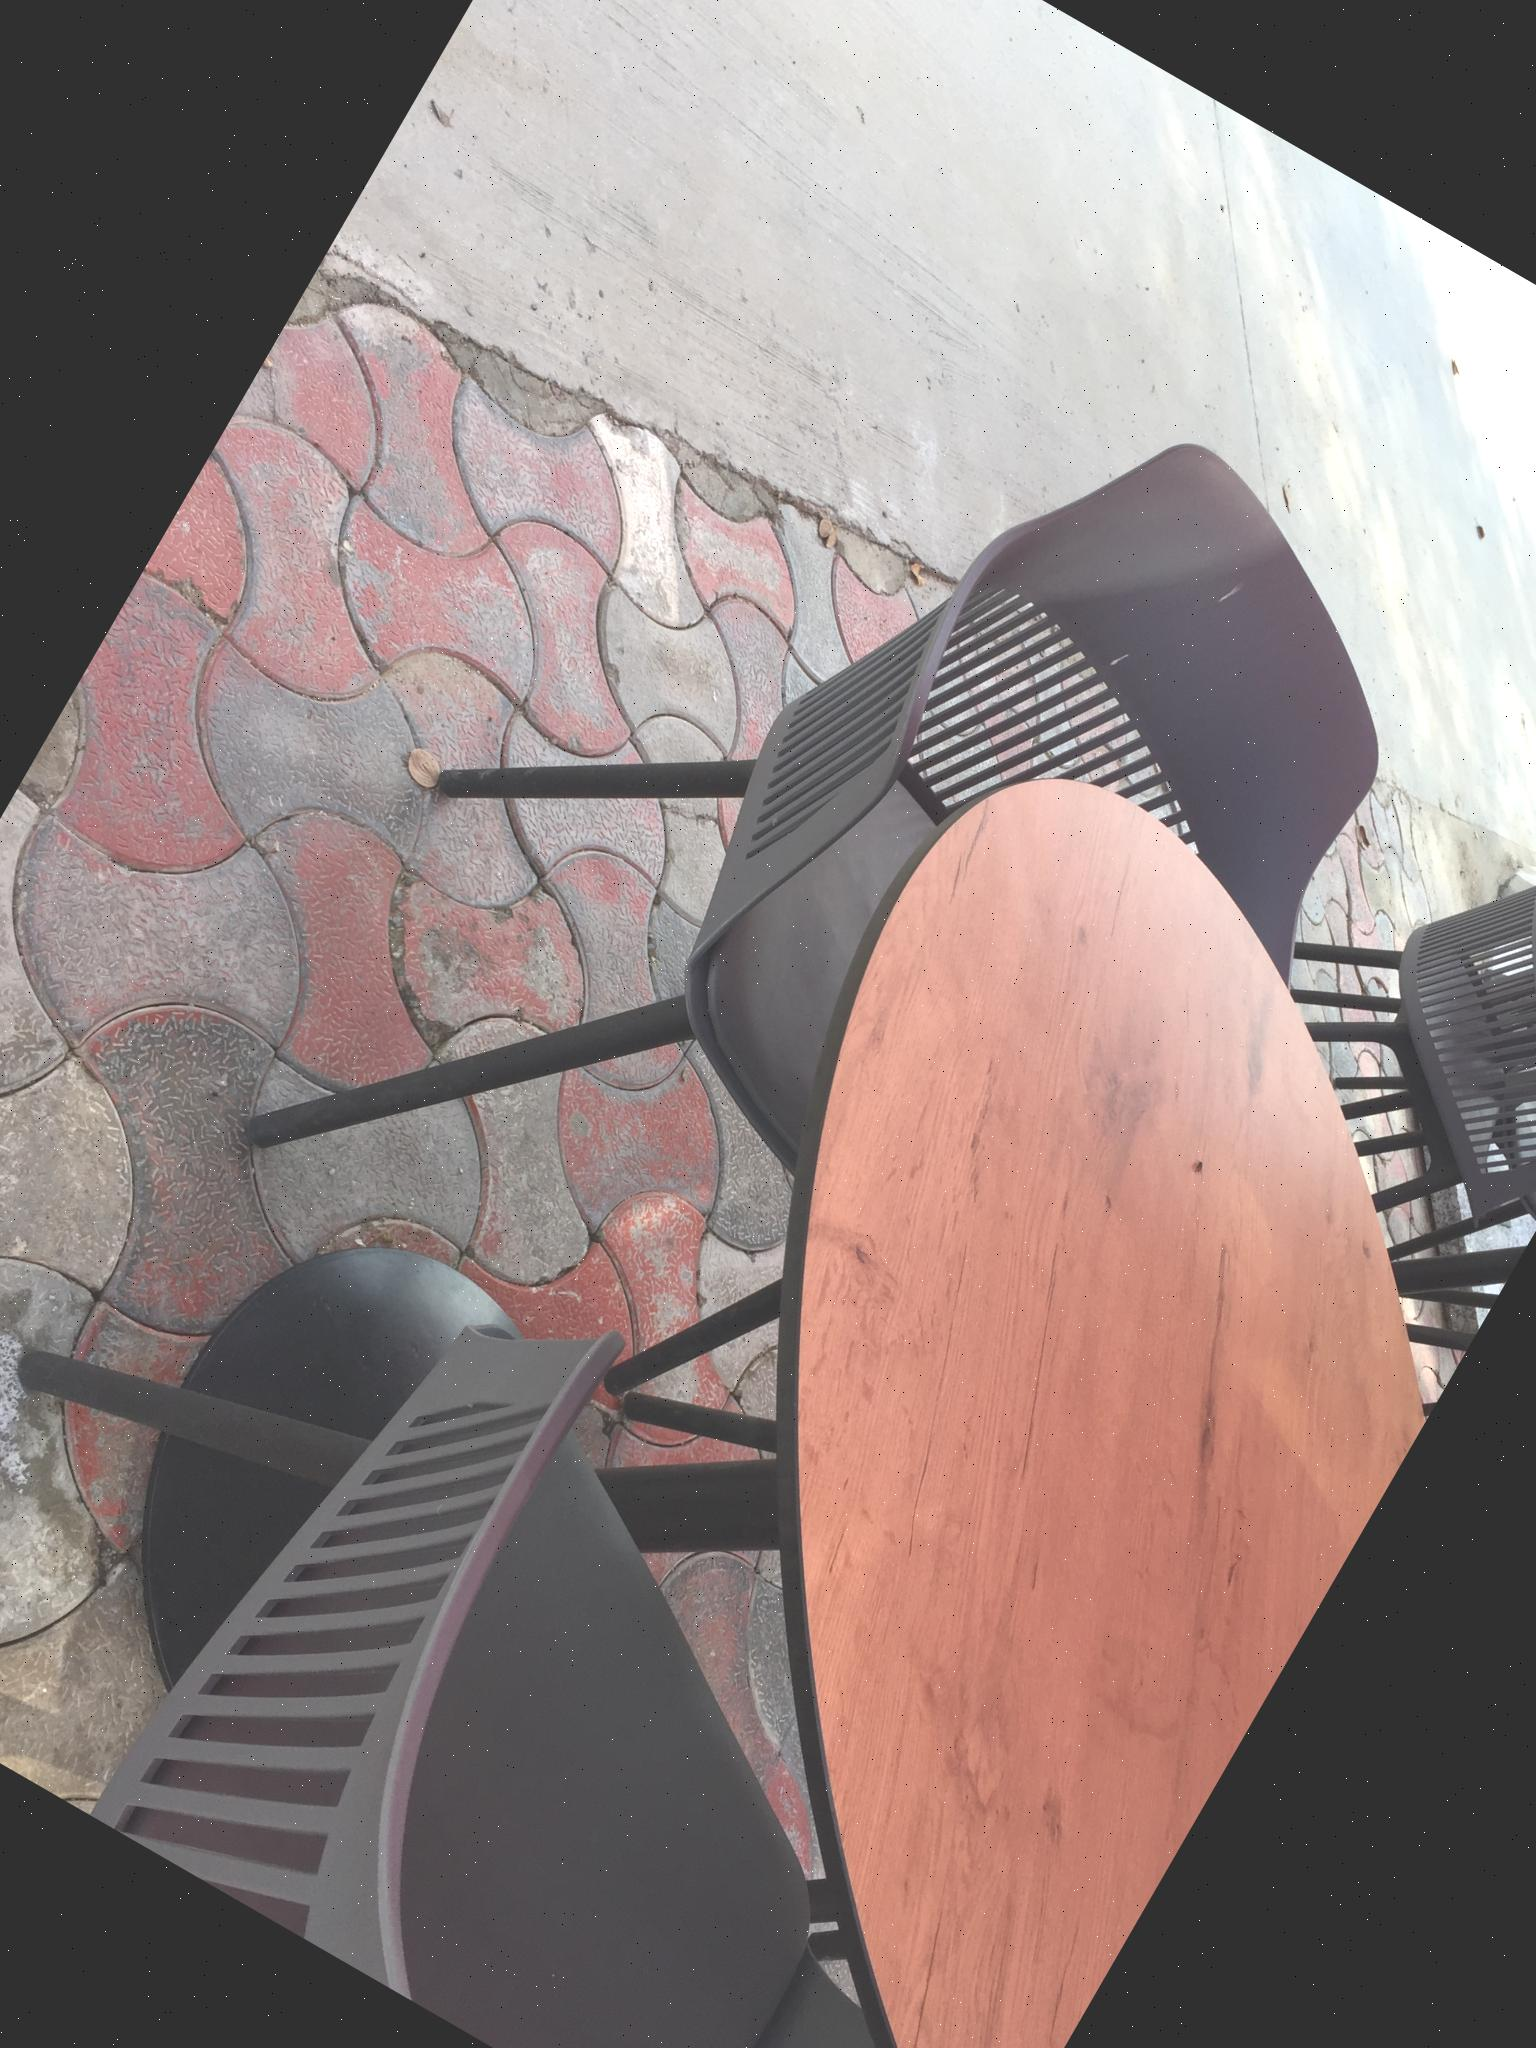chair: (184, 184, 1502, 1611), (0, 1092, 1249, 2048), (1129, 703, 1536, 1405), (1197, 739, 1536, 1409)
